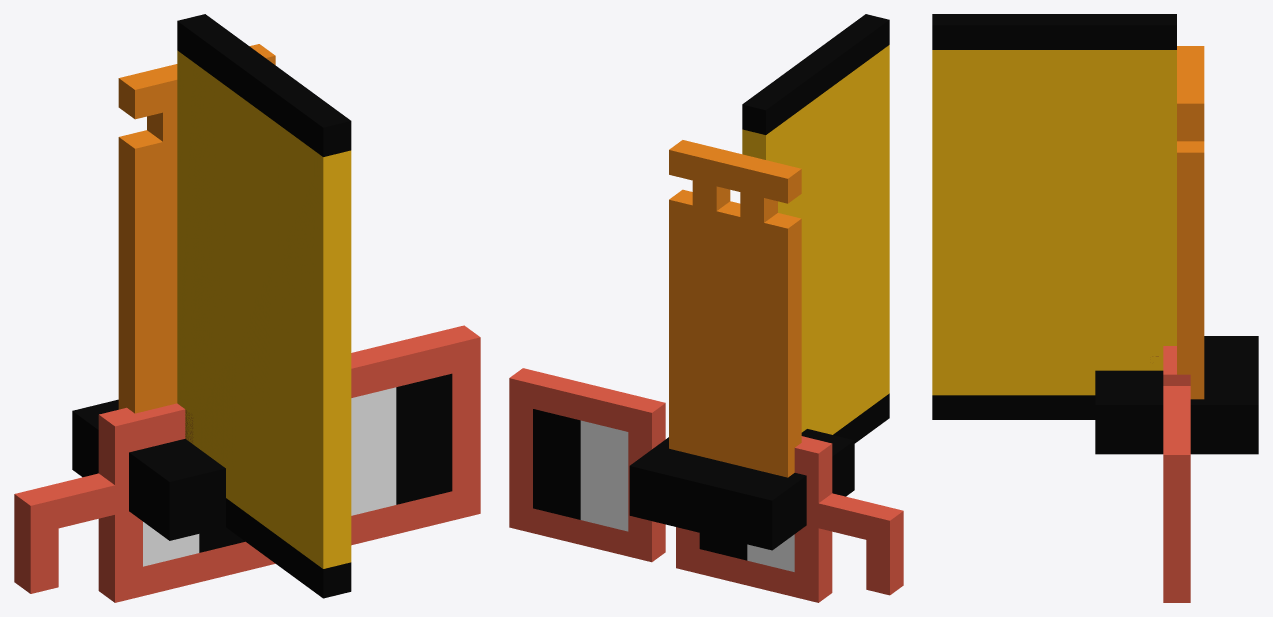
File: film35mm.glb
3 views of the same model, side by side, from view 1: azimuth 30°, elevation 25°; view 2: azimuth 150°, elevation 25°; view 3: azimuth 270°, elevation 25° (orthographic). The views are drawn at different scales.
Visible parts, largest first — view 1: circle-16, circle-16 (21), glasses, back, layer-2, top; view 2: back, circle-16, glasses, circle-16 (21), top, layer-2; view 3: circle-16, circle-16 (21), top, back, glasses.
Part boxes in pixels (x1=…): circle-16: x1=177, y1=14, x2=351, y2=598; circle-16 (21): x1=177, y1=51, x2=323, y2=568; glasses: x1=14, y1=325, x2=480, y2=602; back: x1=118, y1=44, x2=275, y2=413; layer-2: x1=143, y1=373, x2=452, y2=566; top: x1=72, y1=399, x2=225, y2=540; back: x1=669, y1=140, x2=801, y2=477; circle-16: x1=742, y1=14, x2=889, y2=443; glasses: x1=509, y1=368, x2=903, y2=602; circle-16 (21): x1=742, y1=45, x2=889, y2=434; top: x1=629, y1=429, x2=854, y2=550; layer-2: x1=533, y1=409, x2=794, y2=571; circle-16: x1=932, y1=14, x2=1176, y2=419; circle-16 (21): x1=932, y1=50, x2=1176, y2=395; top: x1=1095, y1=336, x2=1258, y2=454; back: x1=1177, y1=46, x2=1204, y2=399; glasses: x1=1163, y1=346, x2=1190, y2=602.
Size of the model in its own units: 16 by 19 by 12.
Materials: 13 (13 with a texture image).
